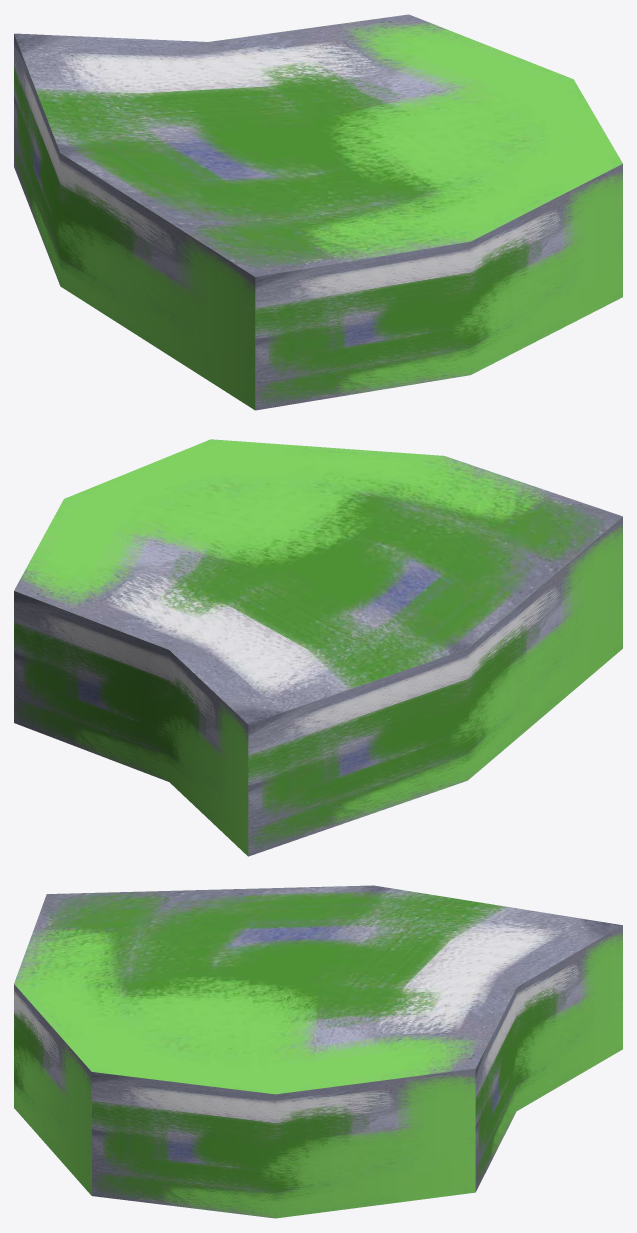
File: Collectible3.FBX
3 views of the same model, one above another, from view 1: azimuth 30°, elevation 25°; view 2: azimuth 150°, elevation 25°; view 3: azimuth 270°, elevation 25° (orthographic). The views are drawn at different scales.
Parts seen in each view (by area): view 1: Box004; view 2: Box004; view 3: Box004.
Boxes of the visible parts, x1=… form: Box004: x1=14, y1=14, x2=622, y2=410; Box004: x1=14, y1=439, x2=622, y2=856; Box004: x1=14, y1=885, x2=622, y2=1218.
Bounding box in the file's own units: 3.78 × 4.66 × 1.05.
Materials: 1 (1 with a texture image).
